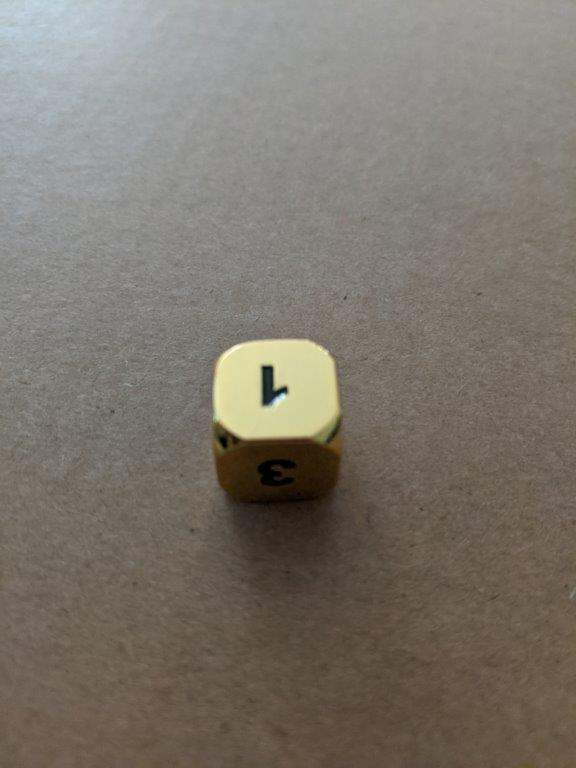d6-1: (214, 338, 346, 511)
